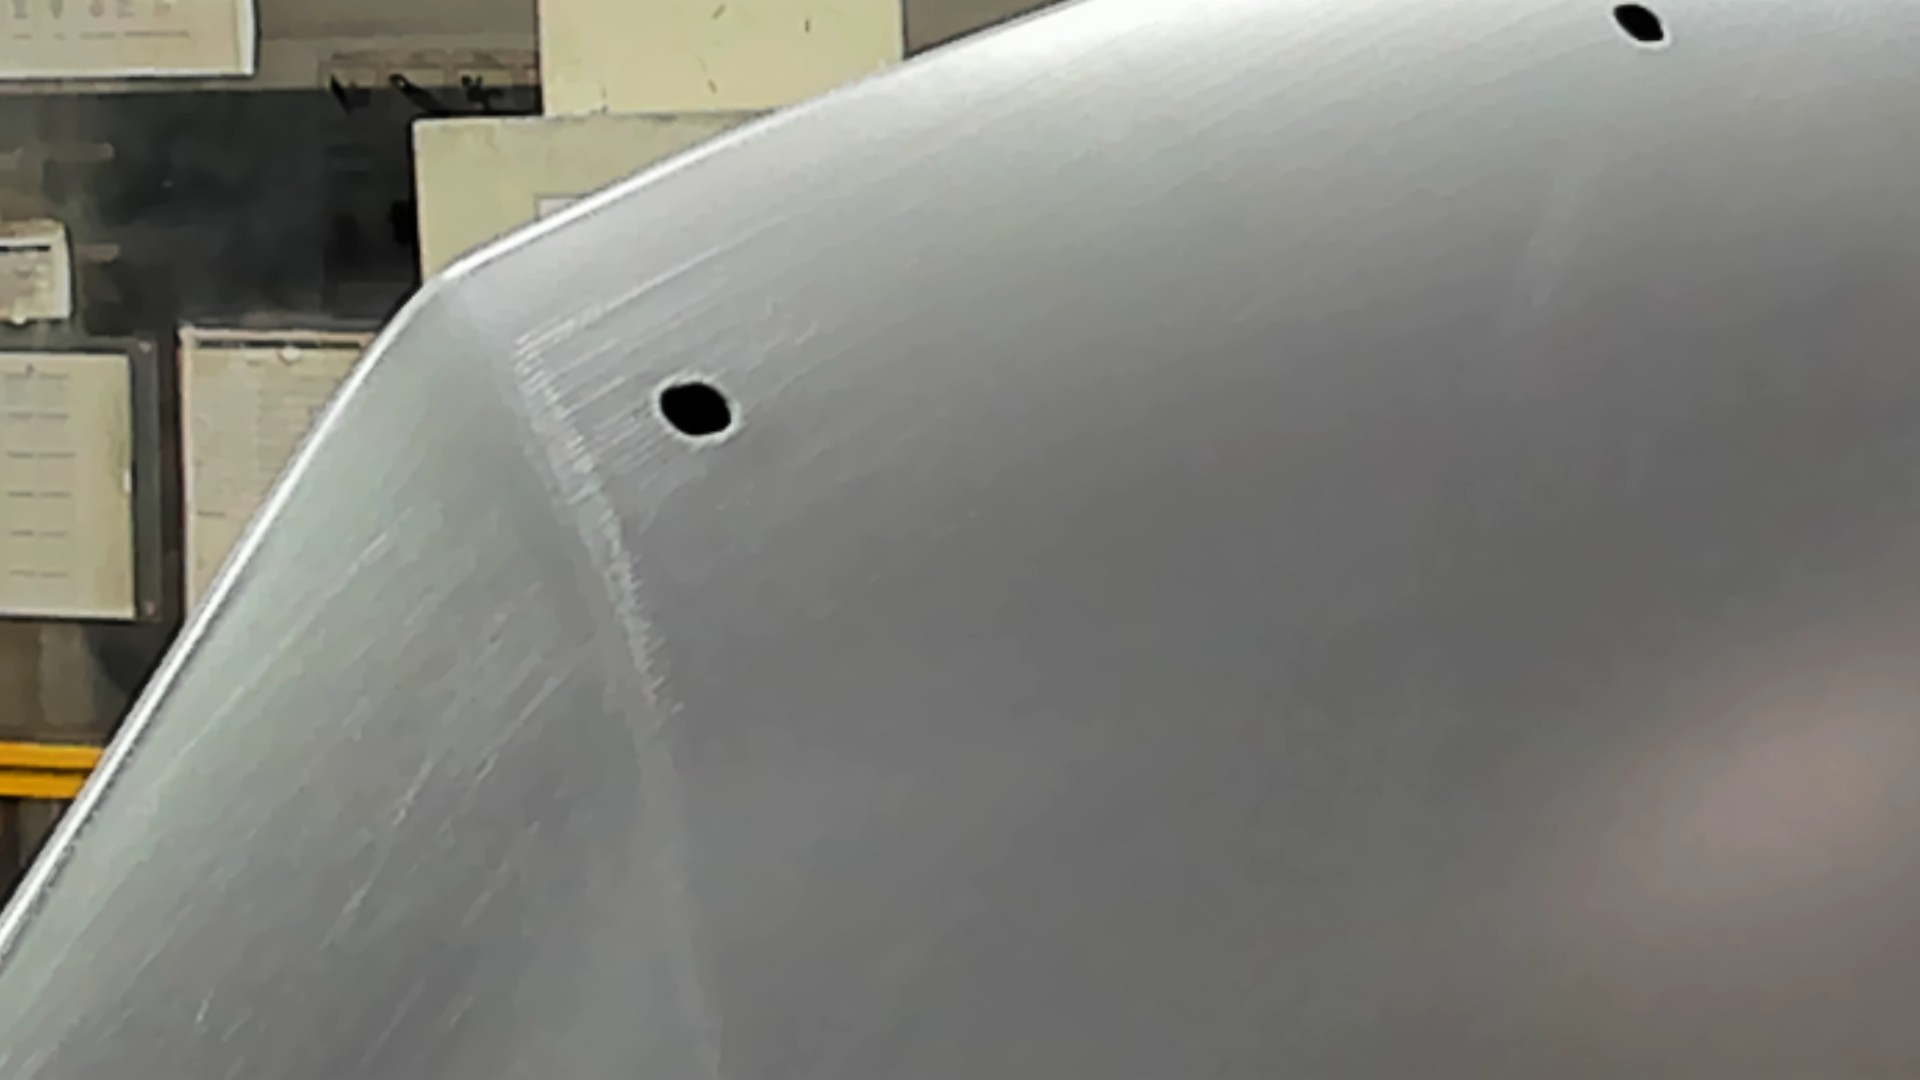amorfo: (647, 373, 742, 450), (1601, 1, 1679, 61)
capo: (872, 124, 1920, 1080)
